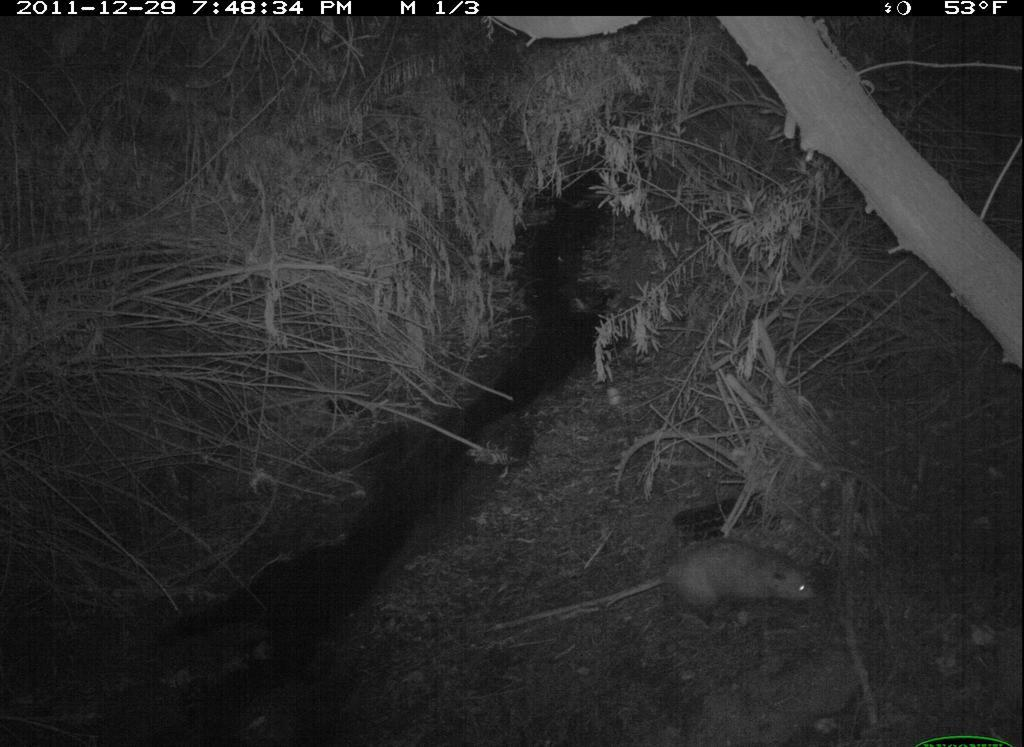opossum: (571, 525, 812, 646)
